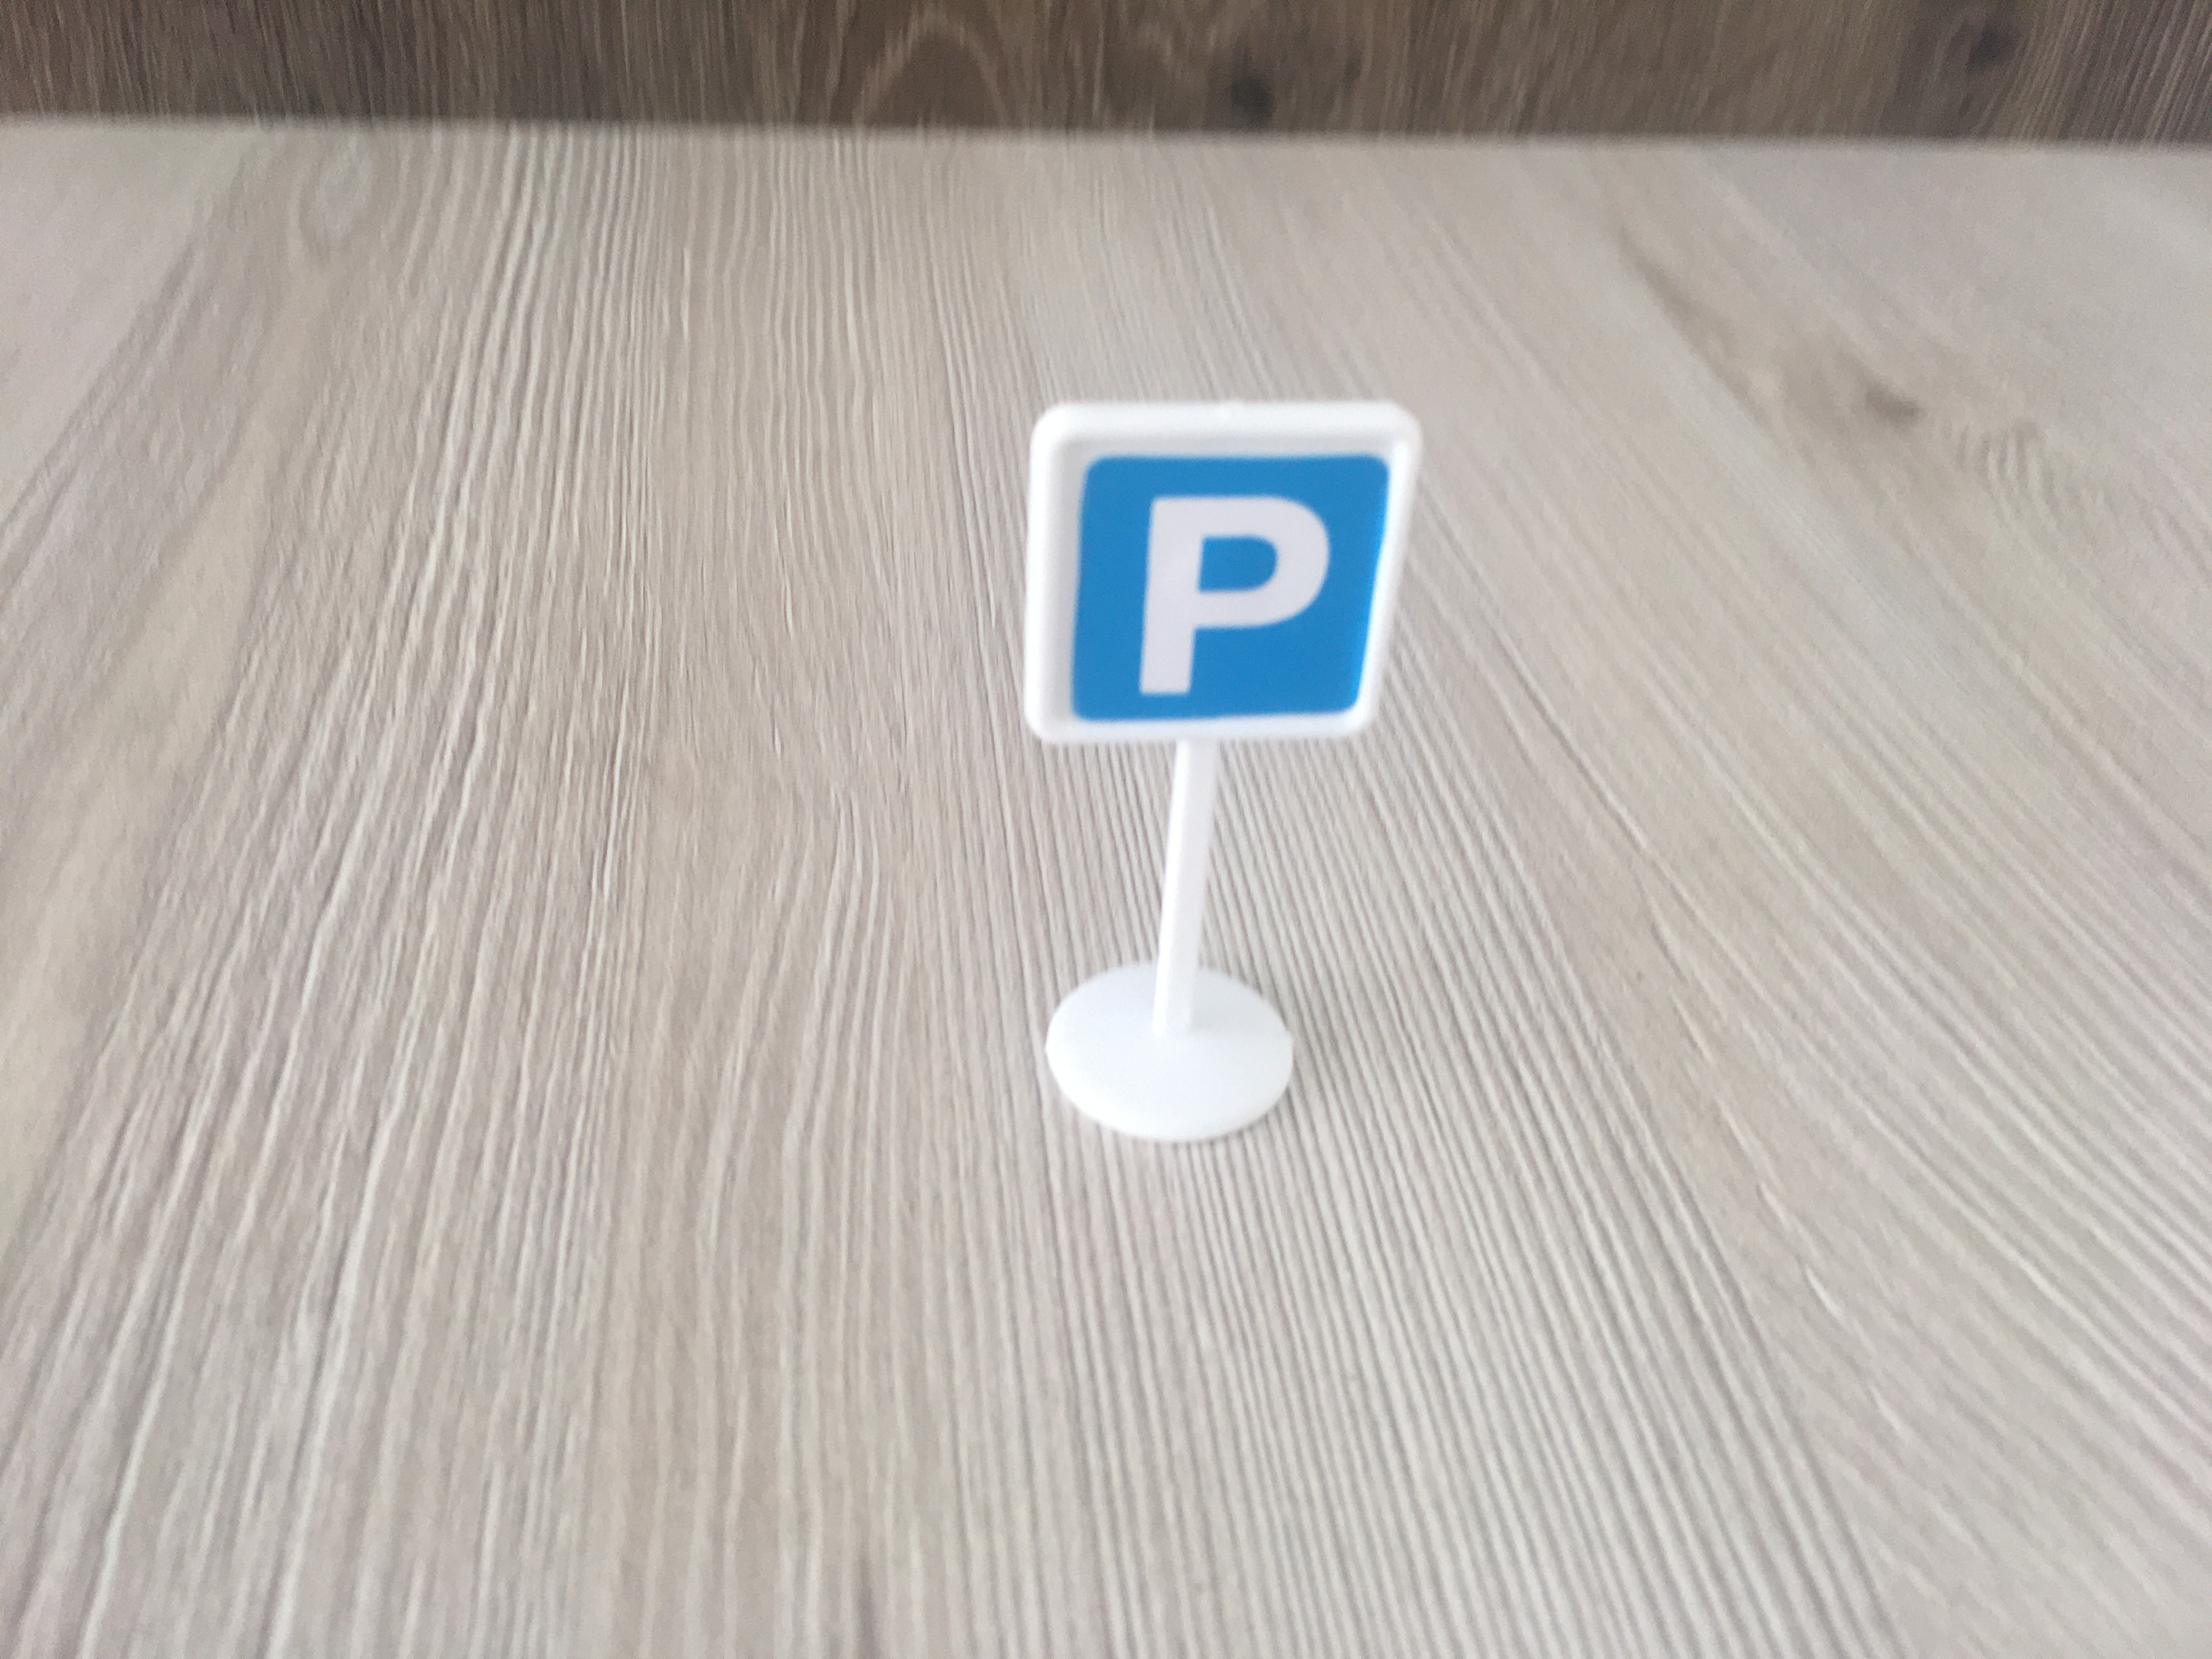parking: (1036, 410, 1406, 748)
